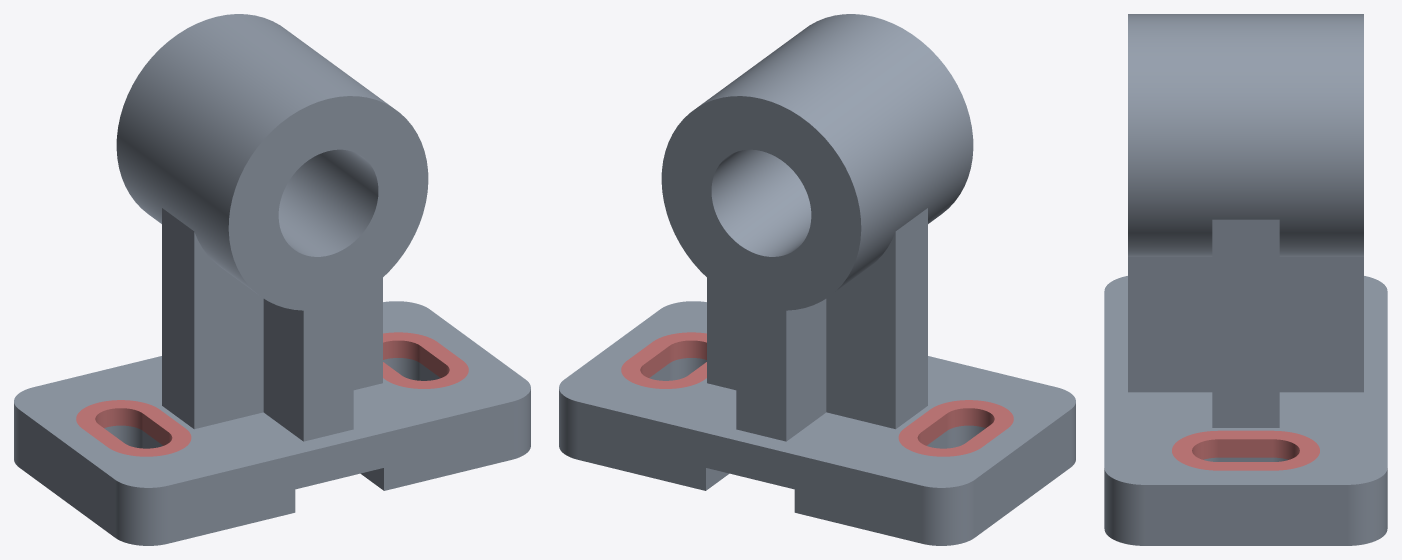
Rendered from step_09.glb.
The picture shows the model from 3 angles, left to right: view 1: azimuth 30°, elevation 25°; view 2: azimuth 150°, elevation 25°; view 3: azimuth 270°, elevation 25°; orthographic projection. The views are drawn at different scales.
Visible parts, largest first — view 1: part__pedestal bearing, removed__pedestal bearing; view 2: part__pedestal bearing, removed__pedestal bearing; view 3: part__pedestal bearing, removed__pedestal bearing.
Part boxes in pixels (left/top/right/bottom): part__pedestal bearing: left=14, top=14, right=530, bottom=545; removed__pedestal bearing: left=76, top=332, right=468, bottom=456; part__pedestal bearing: left=559, top=14, right=1075, bottom=545; removed__pedestal bearing: left=621, top=332, right=1013, bottom=456; part__pedestal bearing: left=1104, top=14, right=1387, bottom=545; removed__pedestal bearing: left=1172, top=430, right=1319, bottom=470.
Size of the model in its own units: 74 by 68 by 42.
